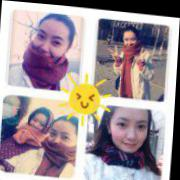NONE: (32, 24, 72, 66), (114, 107, 150, 151), (123, 31, 138, 48)
WRONG: (51, 122, 78, 154), (32, 113, 48, 135)
